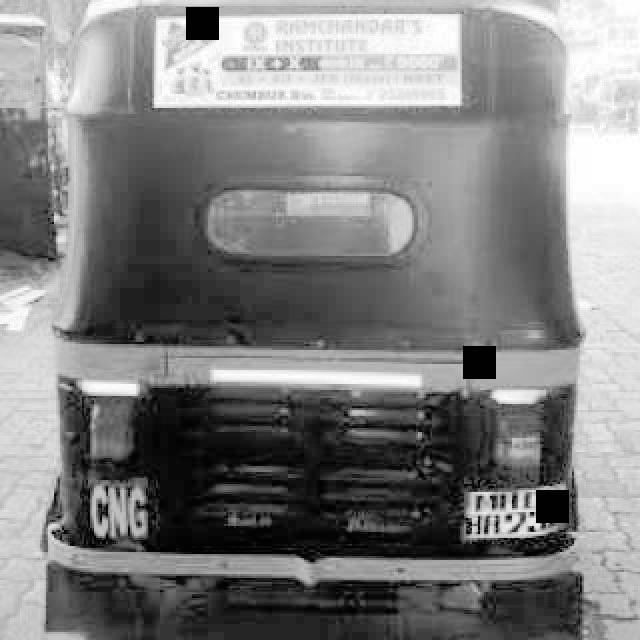Auto-Rickshaw: (58, 6, 596, 638)
